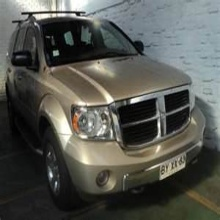no damage: (4, 16, 206, 207)
